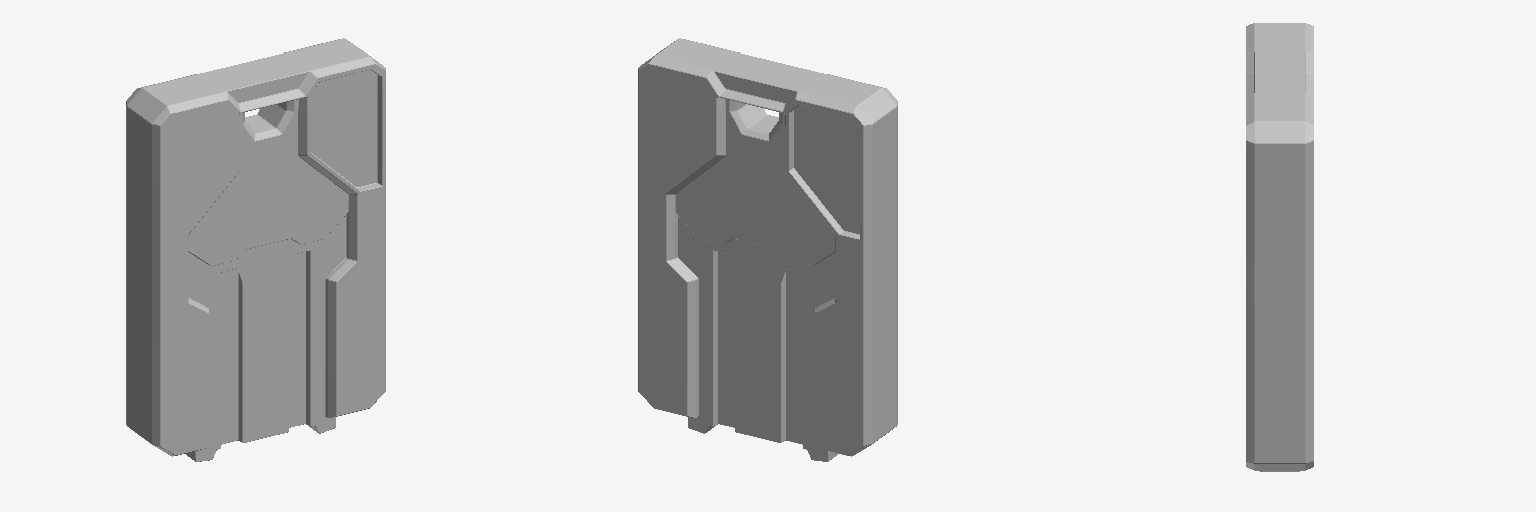
File: DoomKeyCard.obj
3 renders of one model, left to right at view 1: azimuth 30°, elevation 25°; view 2: azimuth 150°, elevation 25°; view 3: azimuth 270°, elevation 25°, orthographic.
Visible parts, largest first — view 1: Card_V1_Cube.001; view 2: Card_V1_Cube.001; view 3: Card_V1_Cube.001.
Part boxes in pixels (left/top/right/bottom): Card_V1_Cube.001: left=126, top=38, right=385, bottom=461; Card_V1_Cube.001: left=638, top=38, right=897, bottom=461; Card_V1_Cube.001: left=1246, top=23, right=1313, bottom=471.
Bounding box in the file's own units: 0.87 × 1.31 × 0.2207.